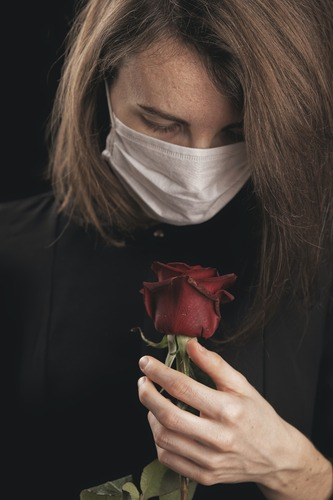with_mask: (109, 57, 256, 224)
